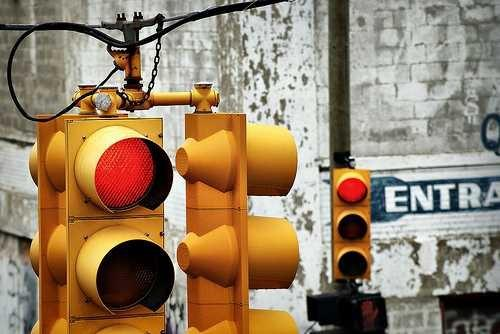red: (62, 118, 175, 334), (329, 168, 374, 281)
